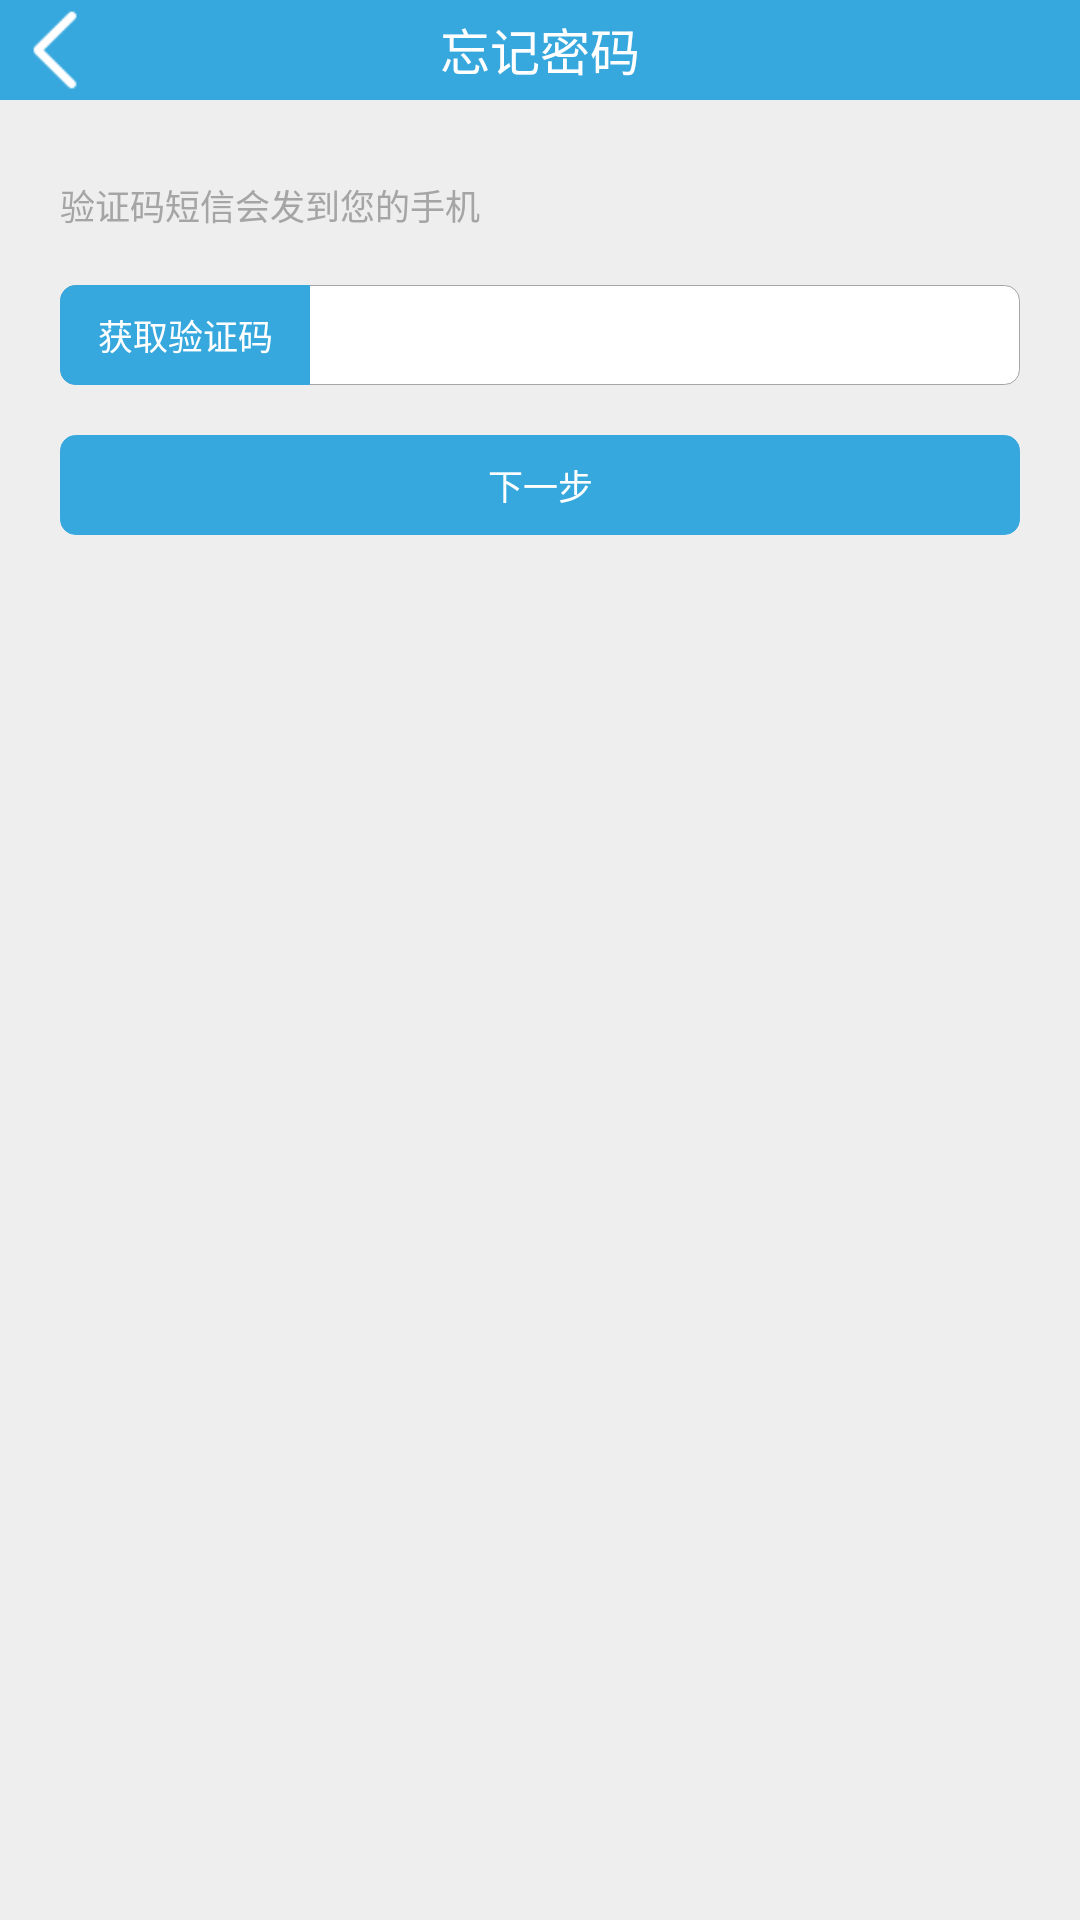

Locate icon controls on the screen. Image size 1080px x 1920px, boxes as [x1, y1, x2, y2].
leftarrowicon: [33, 11, 77, 89]
